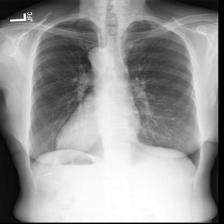normal: (23, 14, 202, 176)
